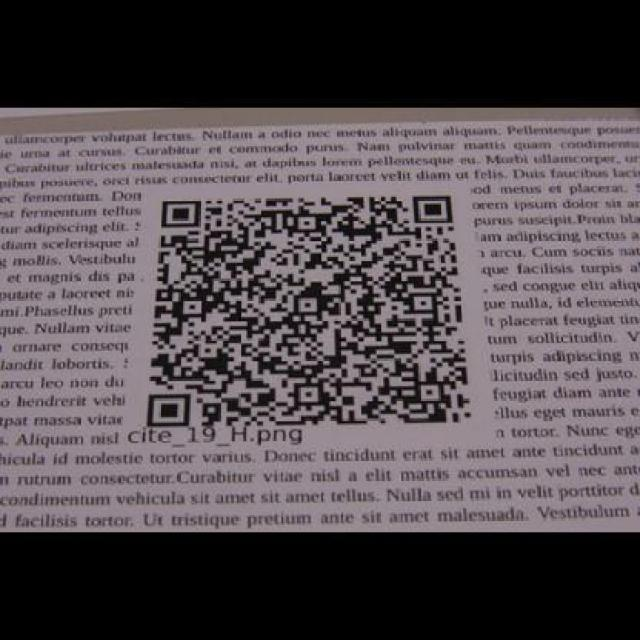QRCode: (142, 189, 480, 432)
